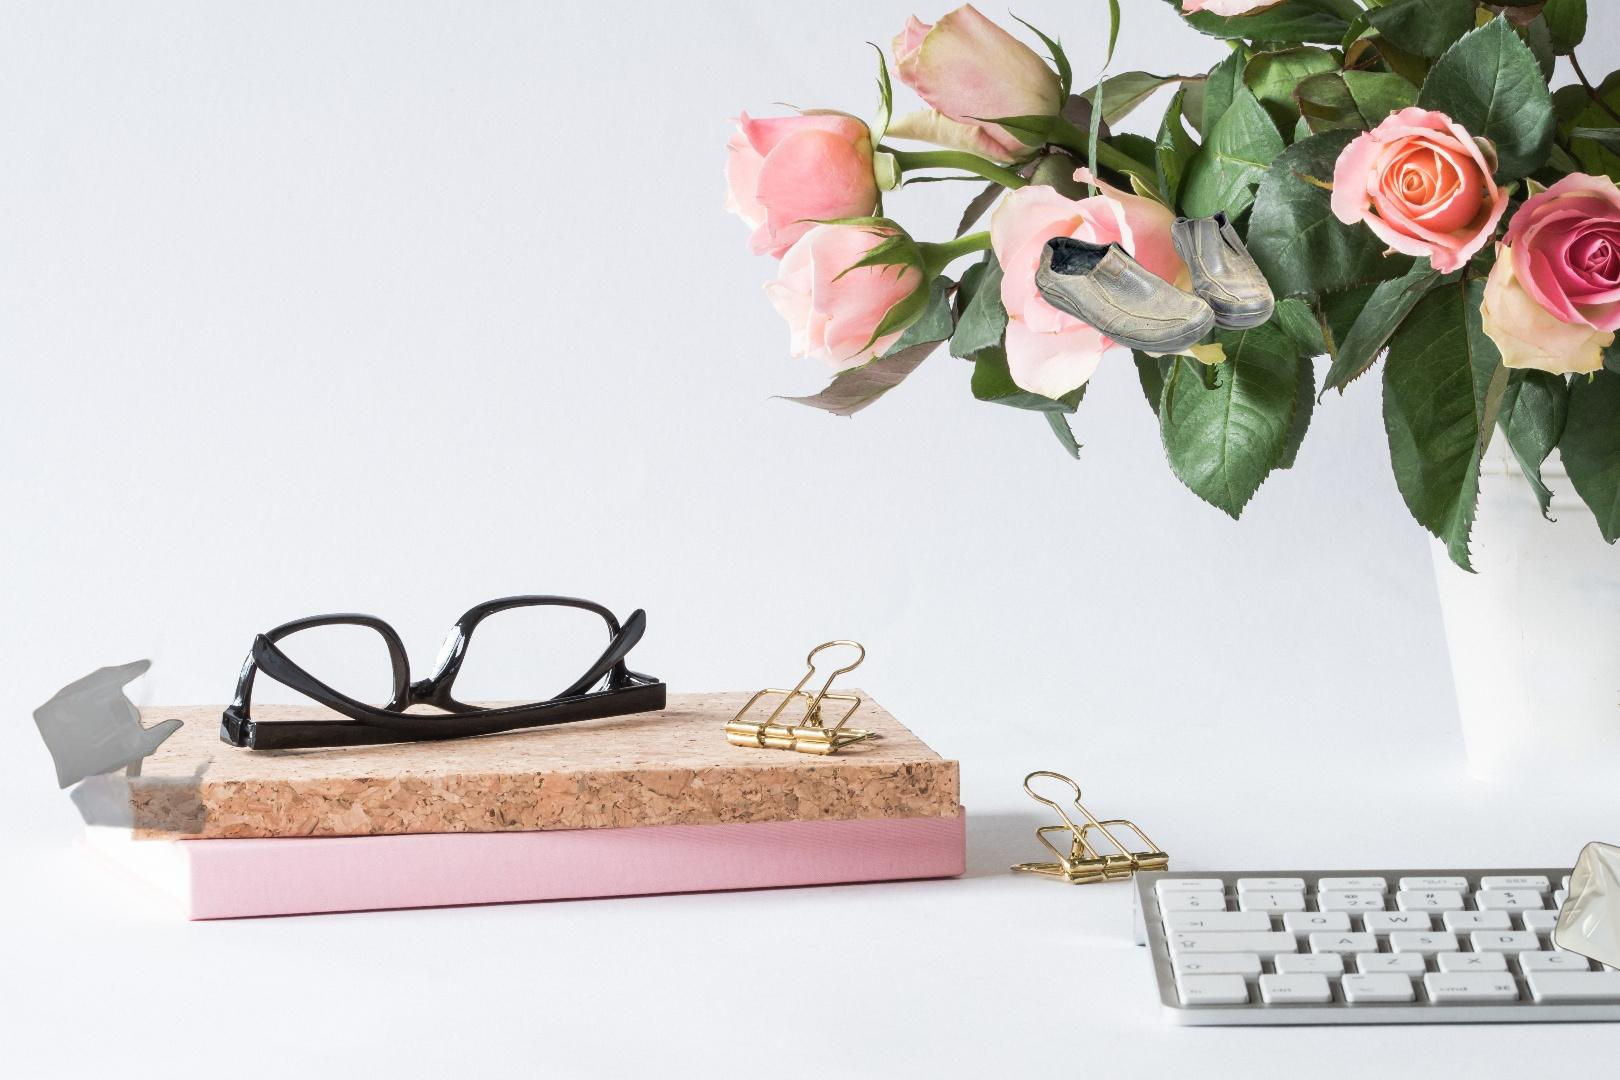plastic-bag: (20, 630, 216, 834)
plastic-bottles: (1551, 838, 1620, 976)
shoes: (1032, 209, 1278, 356)
